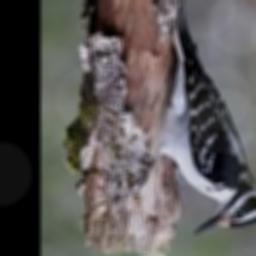Woodpecker: (156, 3, 256, 235)
